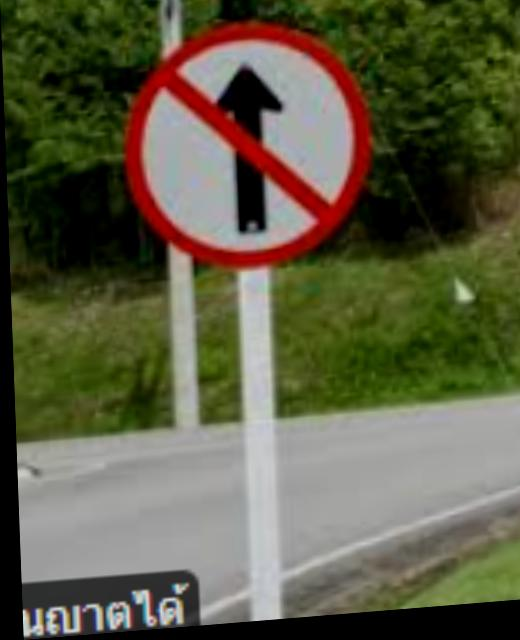not_go_straight: (92, 15, 376, 287)
